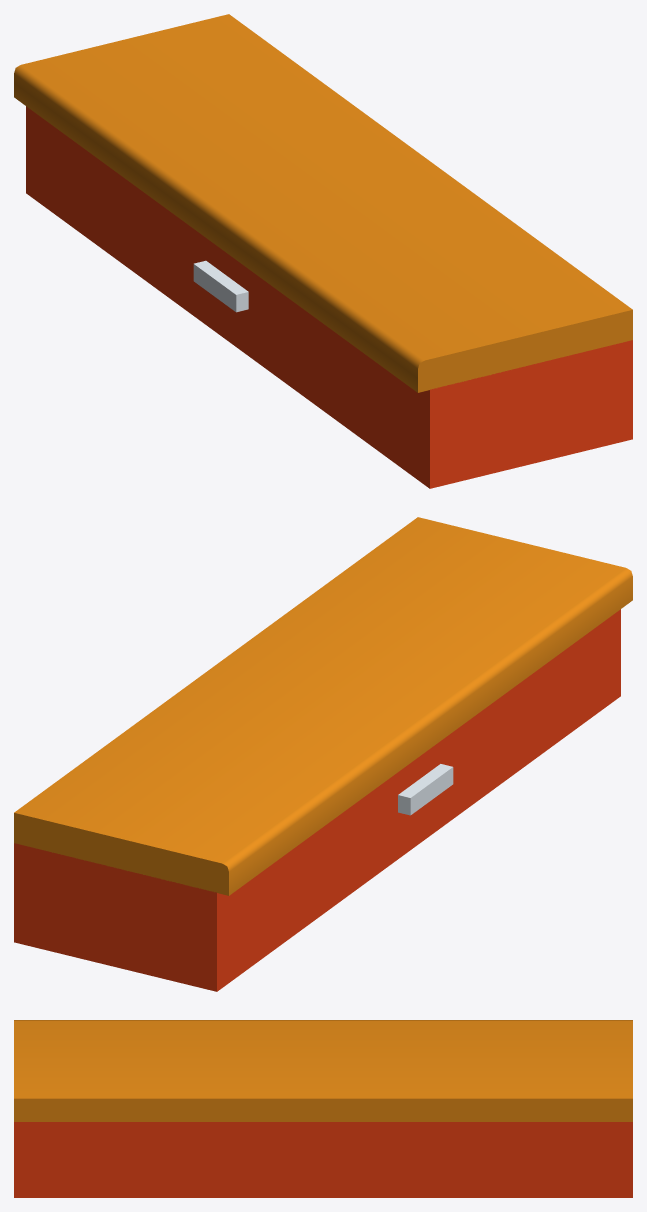
The model's file is ban may che bien.FBX.
The picture shows the model from 3 angles, top to bottom: view 1: azimuth 30°, elevation 25°; view 2: azimuth 150°, elevation 25°; view 3: azimuth 270°, elevation 25°; orthographic projection. The views are drawn at different scales.
Parts seen in each view (by area): view 1: Box1202; view 2: Box1202; view 3: Box1202.
Boxes of the visible parts, box(x1,y1,x2,y2) form: Box1202: box(14, 14, 632, 488); Box1202: box(14, 517, 632, 991); Box1202: box(14, 1020, 632, 1197).
Bounding box in the file's own units: 2.21 × 1.27 × 7.16.
